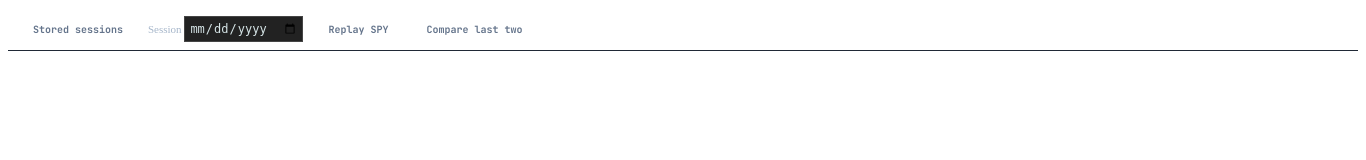
session inventory reports empty/refused/versioned identity truth
What coordinates should you click on to do the following:
click the button with test id "solstice-replay-load"
I would click on:
 (358, 29)
Its box is [315,18,401,40].
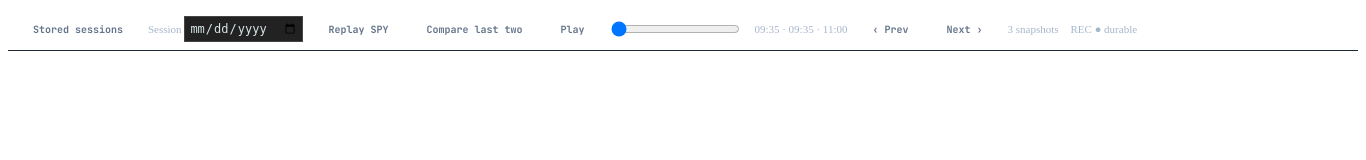
Expected: the text "3 snapshots" is shown, [1008,21,1058,37]
What coordinates should you click on to do the following:
click the button "Stored sessions"
I would click on:
 (78, 29)
Its box is [20,18,136,40].
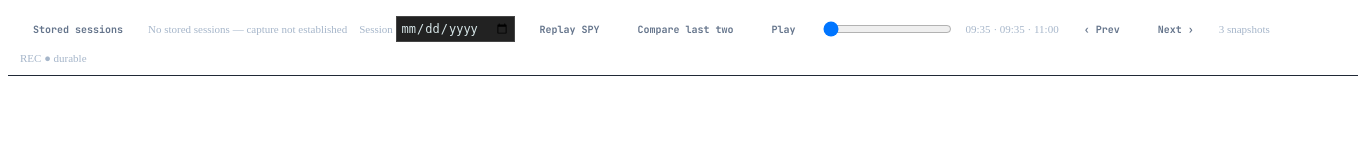
Expected: the message with test id "solstice-session-status" shows "No stored sessions", [148,23,347,35]
